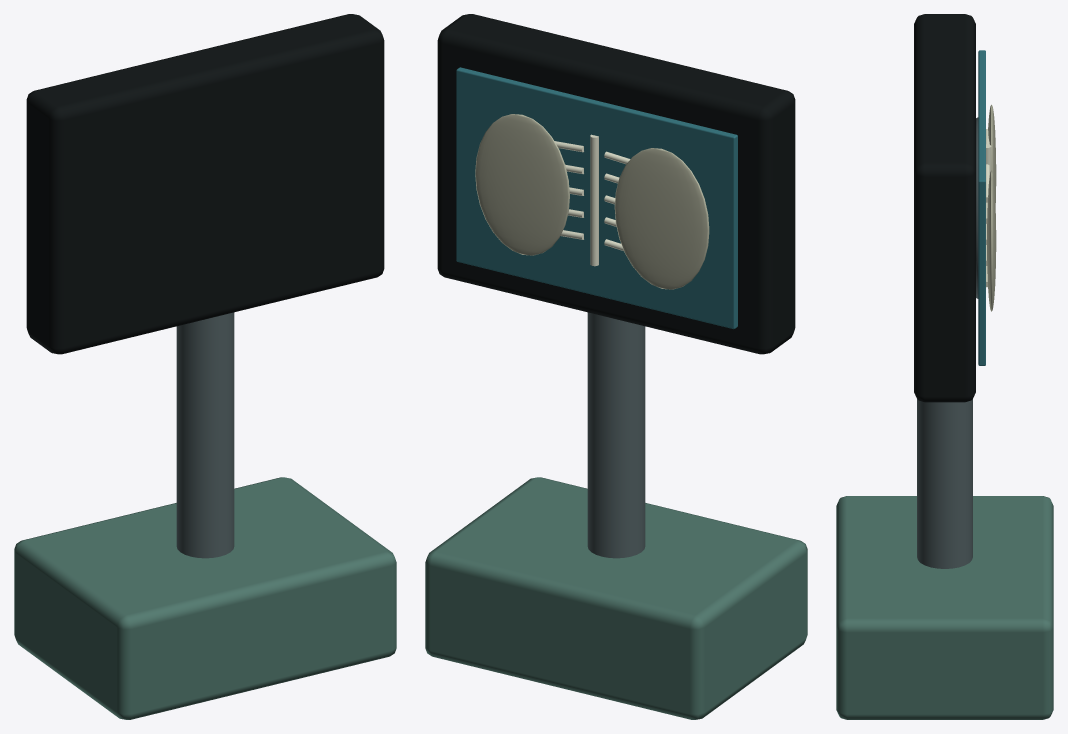
The model's file is XRay.obj.
The picture shows the model from 3 angles, left to right: view 1: azimuth 30°, elevation 25°; view 2: azimuth 150°, elevation 25°; view 3: azimuth 270°, elevation 25°; orthographic projection. The views are drawn at different scales.
Parts seen in each view (by area): view 1: XRay; view 2: XRay; view 3: XRay.
Boxes of the visible parts, <box> form: XRay: <box>14,14,396,719</box>; XRay: <box>425,14,807,719</box>; XRay: <box>836,14,1053,719</box>.
Bounding box in the file's own units: 1.2 × 2.03 × 0.7.
